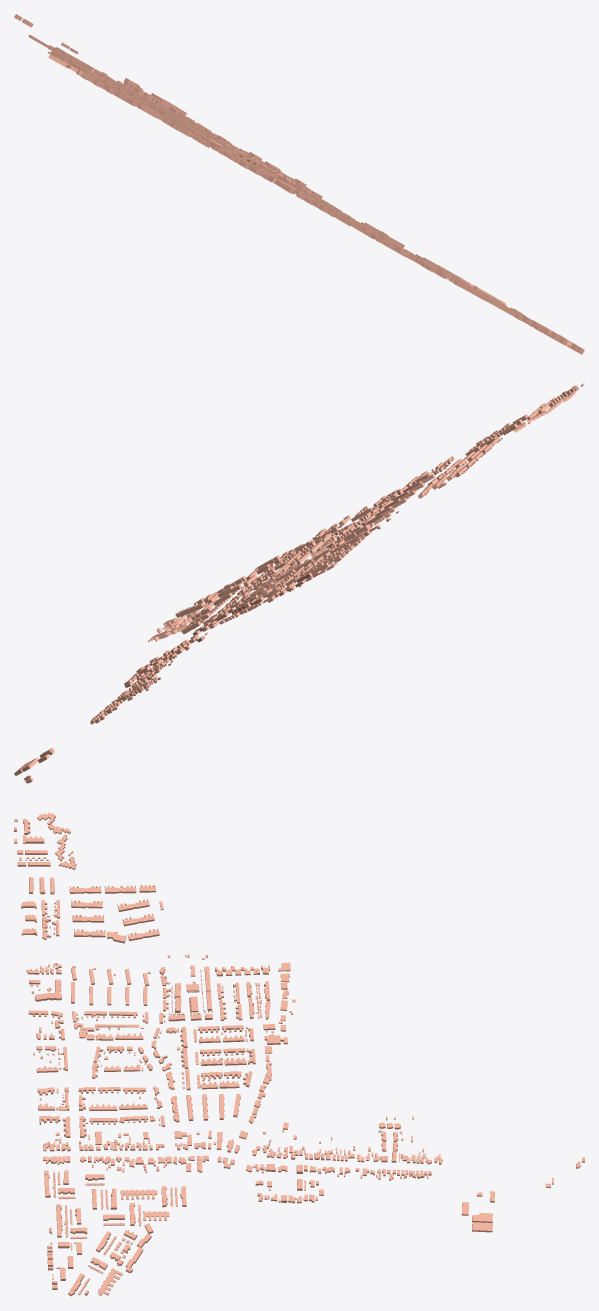
3 views of the same model, one above another, from view 1: azimuth 30°, elevation 25°; view 2: azimuth 150°, elevation 25°; view 3: azimuth 270°, elevation 25° (orthographic). The views are drawn at different scales.
Size of the model in its own units: 956 by 737 by 1259.
